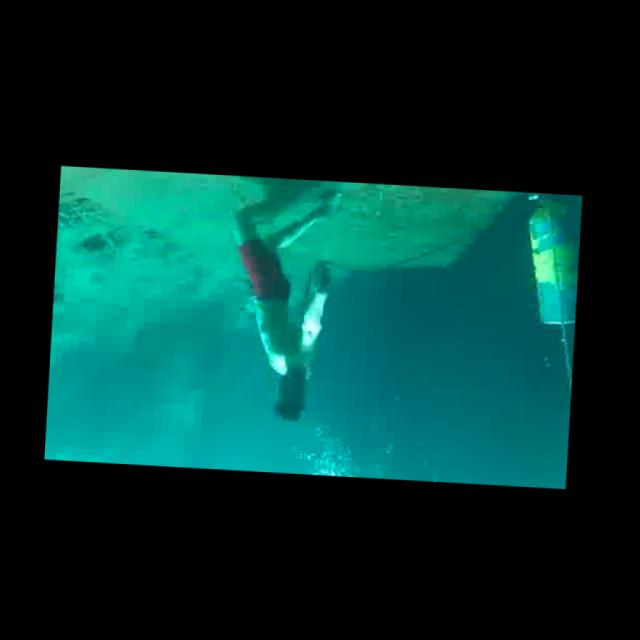human: (223, 174, 354, 428)
